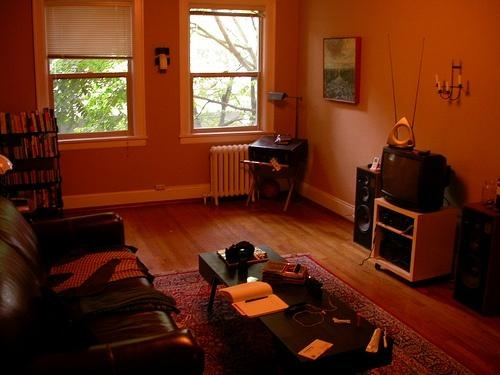sofa: (1, 196, 205, 375)
tvmonitor: (381, 144, 459, 209)
